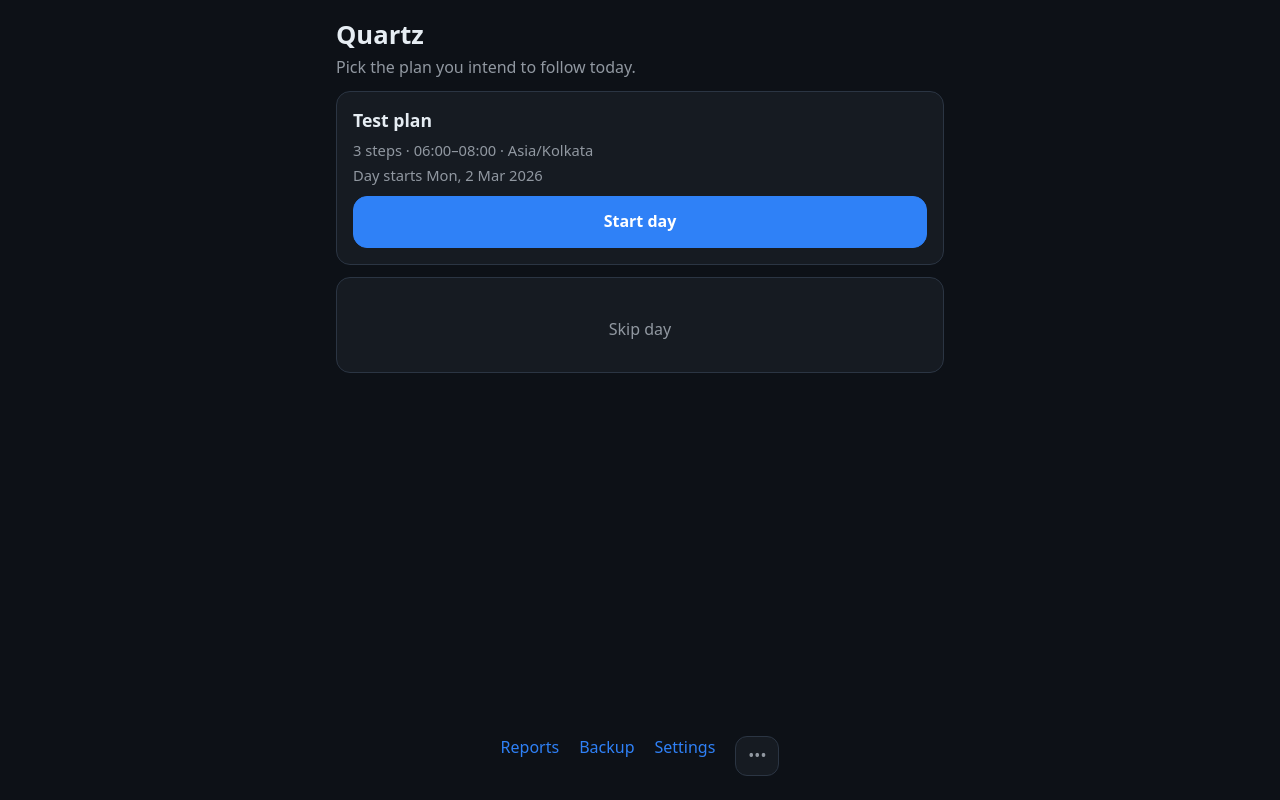
active run screen › skips an item without offering a confirmation prompt
Click the button "Start day": [640, 222] box [353,196,927,248]
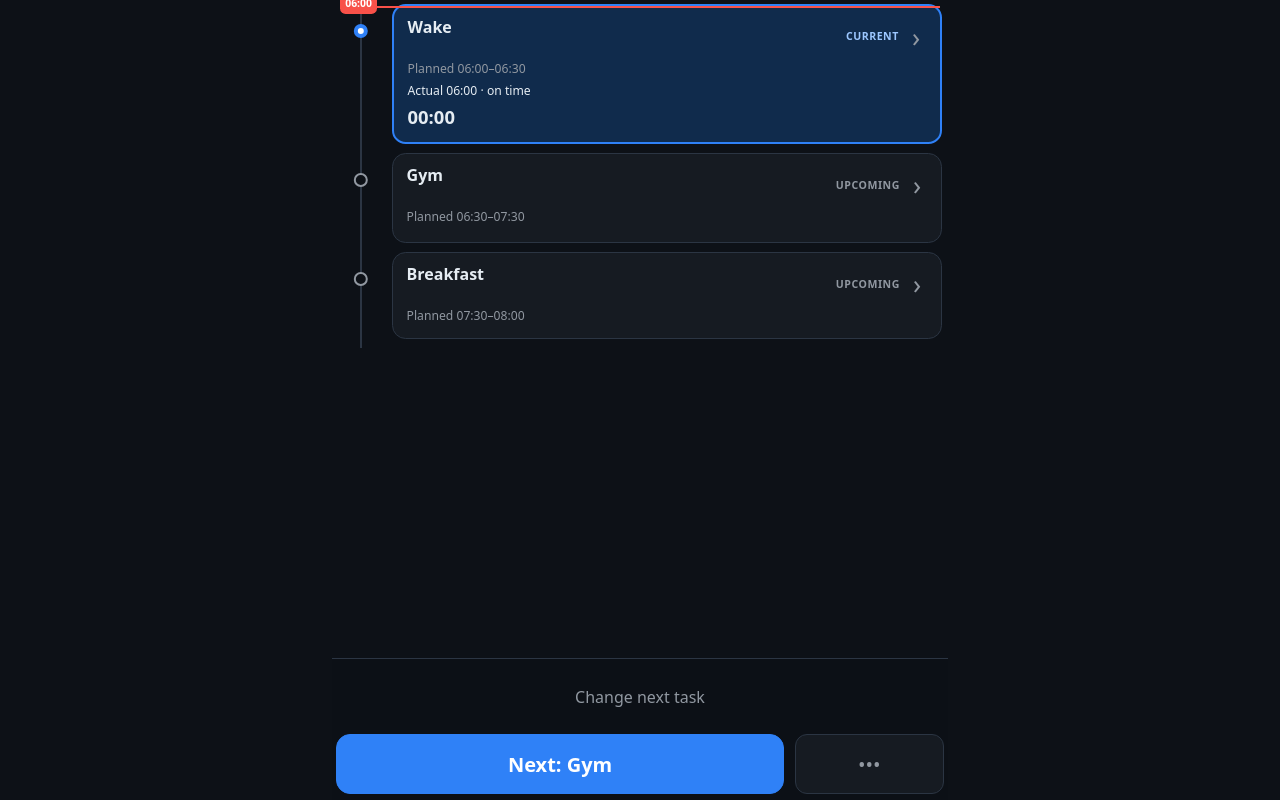
Check: the heading "Wake" is shown, box [408,16,452,38]
Click the button with aria-label "Open Wake details": [430, 27] box [392,4,942,144]
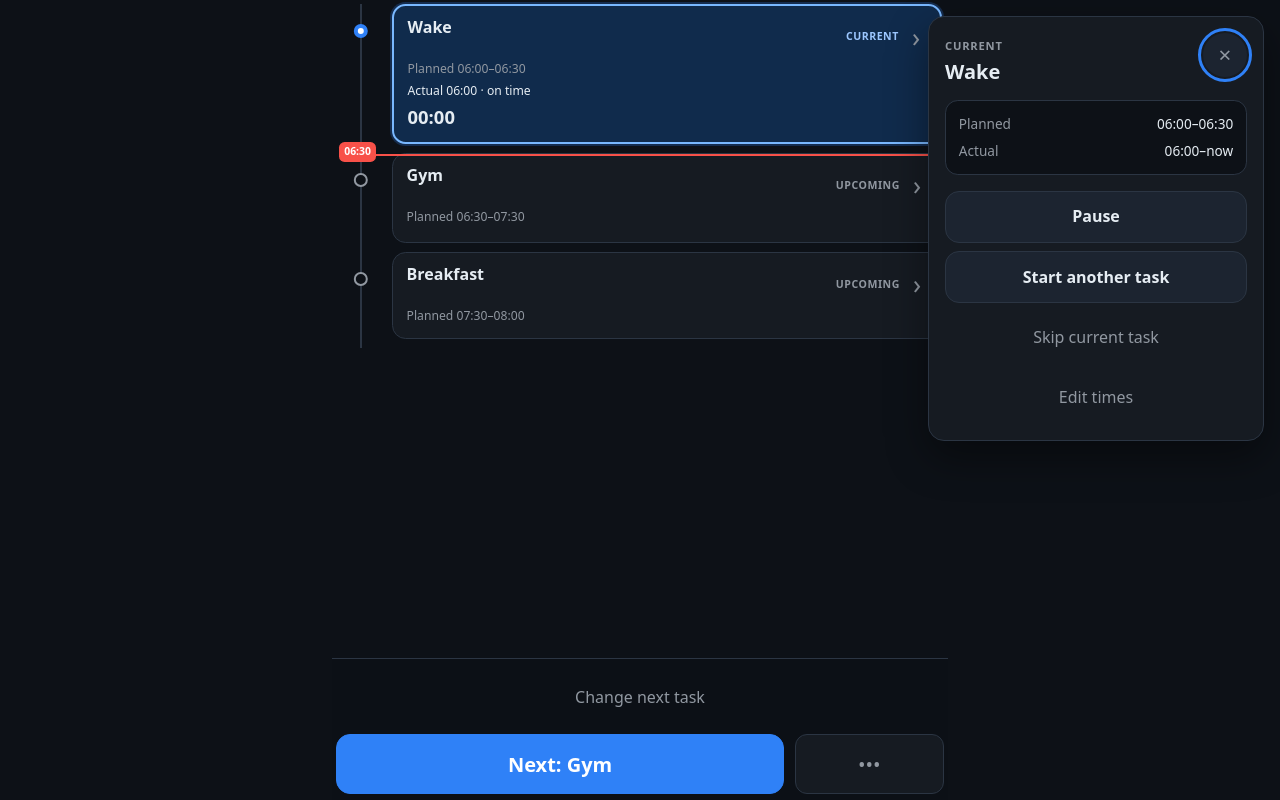
Click the button "Skip current task": [1096, 338] box [945,311,1247,364]
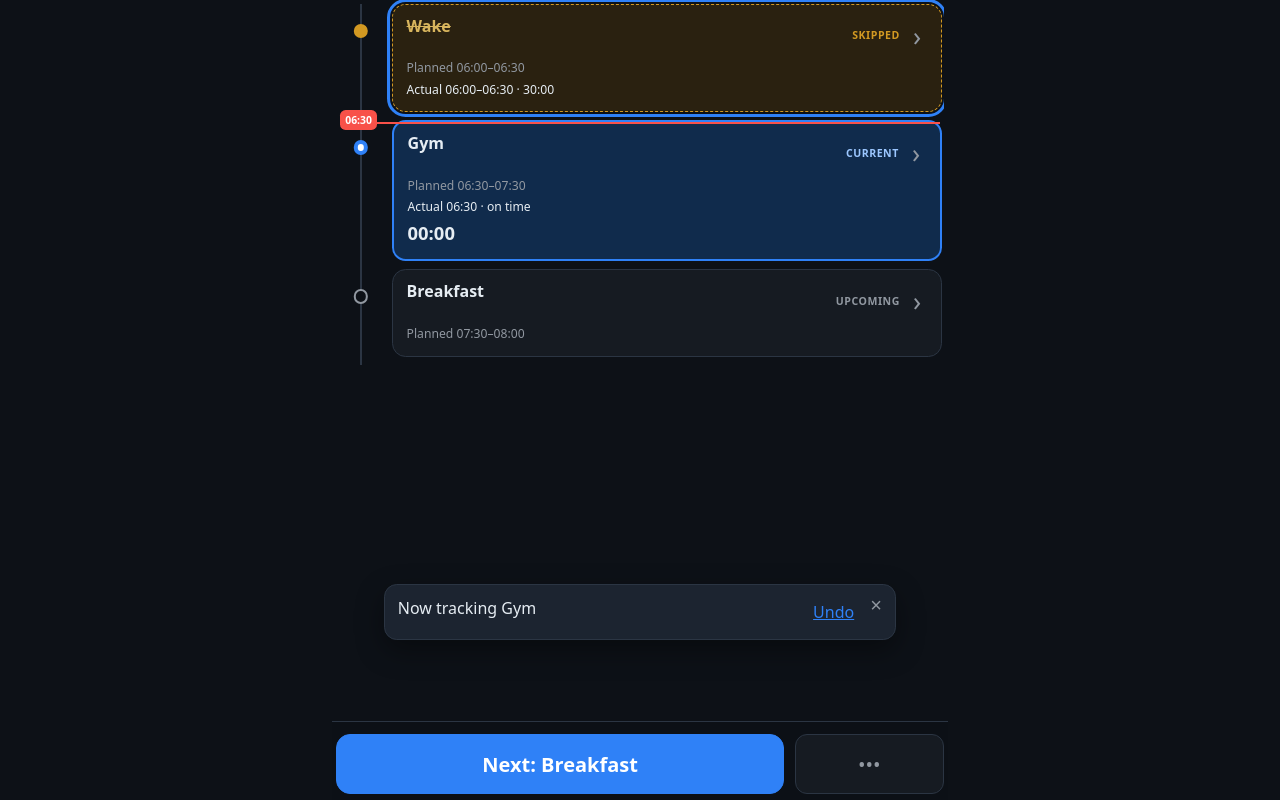
Check: the dialog is gone
